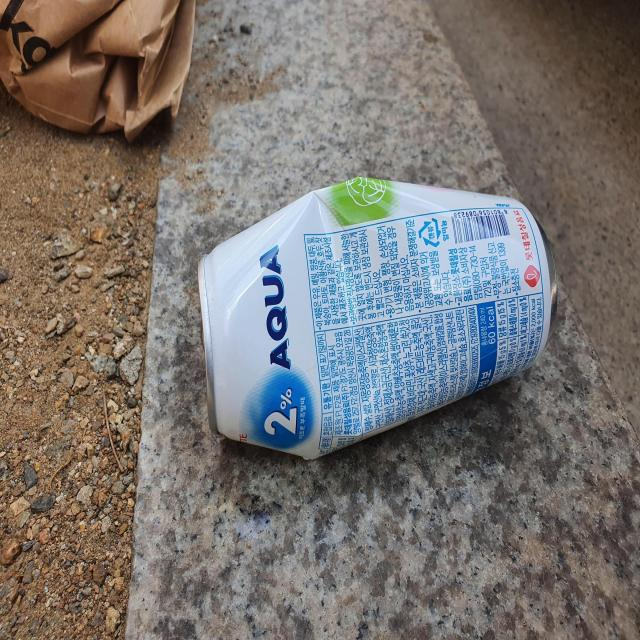can: (198, 176, 558, 459)
